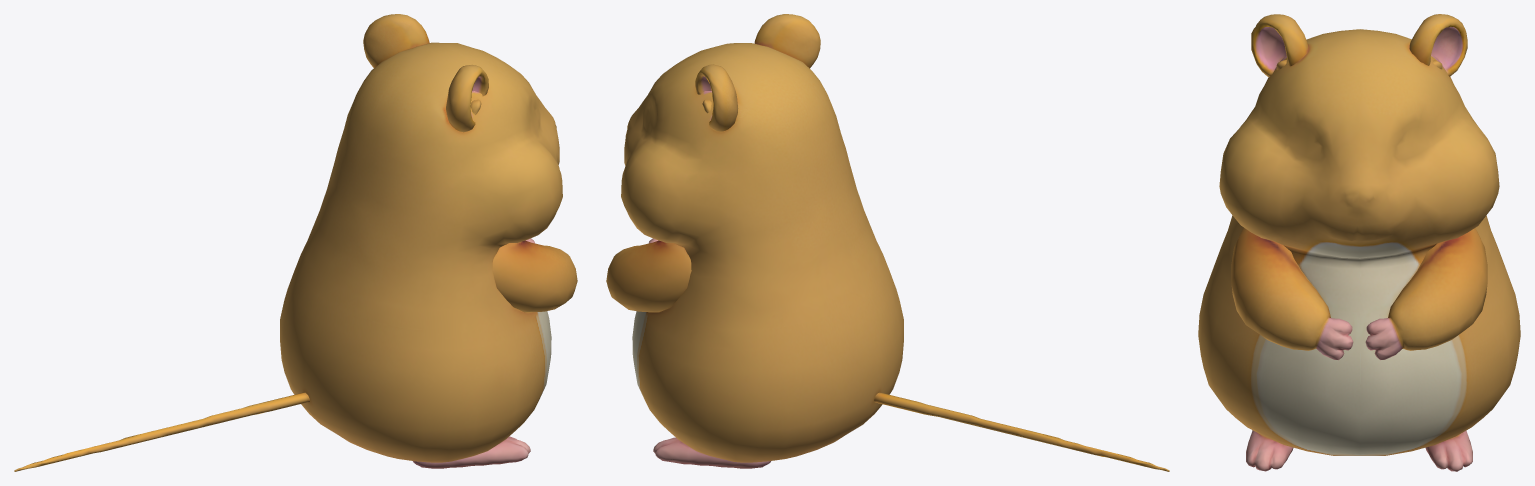
File: hamster.glb
3 renders of one model, left to right at view 1: azimuth 30°, elevation 25°; view 2: azimuth 150°, elevation 25°; view 3: azimuth 270°, elevation 25°, orthographic. The views are drawn at different scales.
Parts seen in each view (by area): view 1: tripo_node_fbb61f51-9369-4fee-b5ae-f3ff919ab7b1; view 2: tripo_node_fbb61f51-9369-4fee-b5ae-f3ff919ab7b1; view 3: tripo_node_fbb61f51-9369-4fee-b5ae-f3ff919ab7b1.
Part boxes in pixels (bbox=[...]): tripo_node_fbb61f51-9369-4fee-b5ae-f3ff919ab7b1: bbox=[14, 14, 577, 471]; tripo_node_fbb61f51-9369-4fee-b5ae-f3ff919ab7b1: bbox=[606, 14, 1169, 471]; tripo_node_fbb61f51-9369-4fee-b5ae-f3ff919ab7b1: bbox=[1198, 14, 1520, 471].
Size of the model in its own units: 0.998 by 0.6972 by 0.4746.
Materials: 1 (1 with a texture image).
